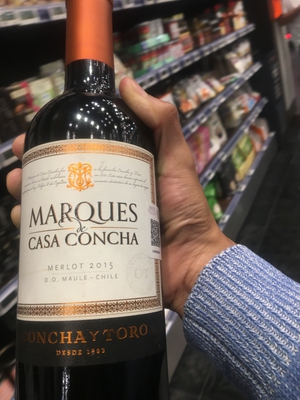marques de casa concha merlot: (20, 16, 179, 400)
